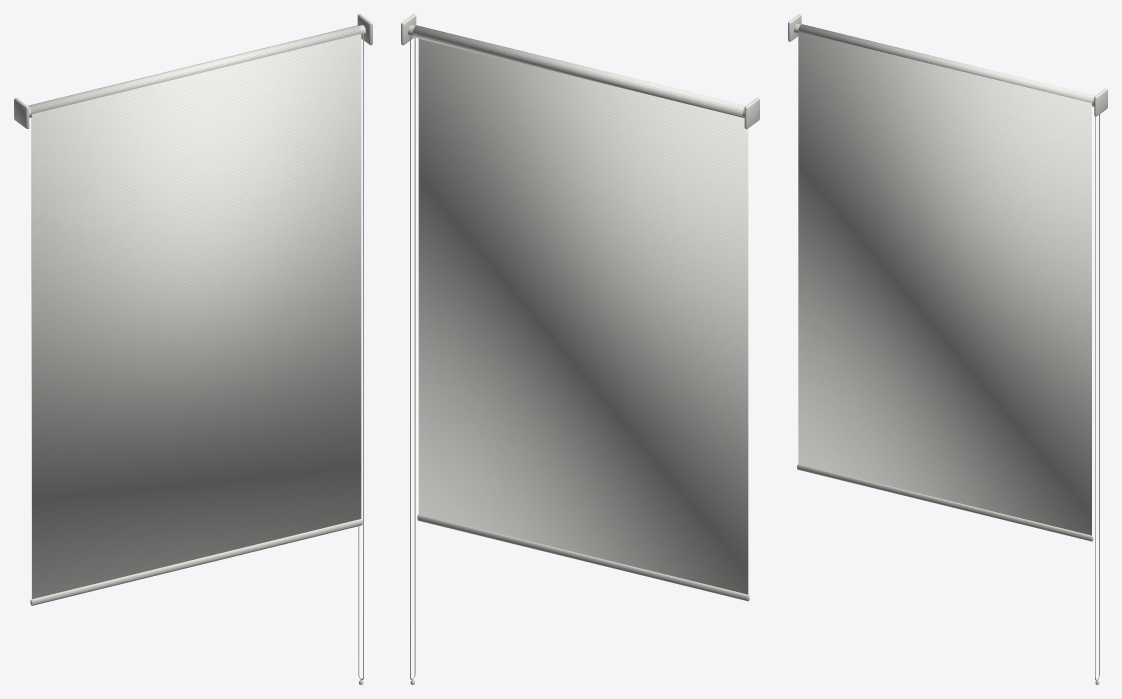
The model's file is estor_enrollable_220_c75.glb.
3 views of the same model, side by side, from view 1: azimuth 30°, elevation 25°; view 2: azimuth 150°, elevation 25°; view 3: azimuth 330°, elevation 25° (orthographic). The views are drawn at different scales.
Visible parts, largest first — view 1: estor_enrollable_220_c75; view 2: estor_enrollable_220_c75; view 3: estor_enrollable_220_c75.
Part boxes in pixels (box(x1,y1,x2,y2)): estor_enrollable_220_c75: box(14, 14, 372, 684); estor_enrollable_220_c75: box(401, 14, 759, 684); estor_enrollable_220_c75: box(788, 14, 1107, 684).
Bounding box in the file's own units: 1.2 × 2.2 × 0.08.
4 materials, 1 textured.
